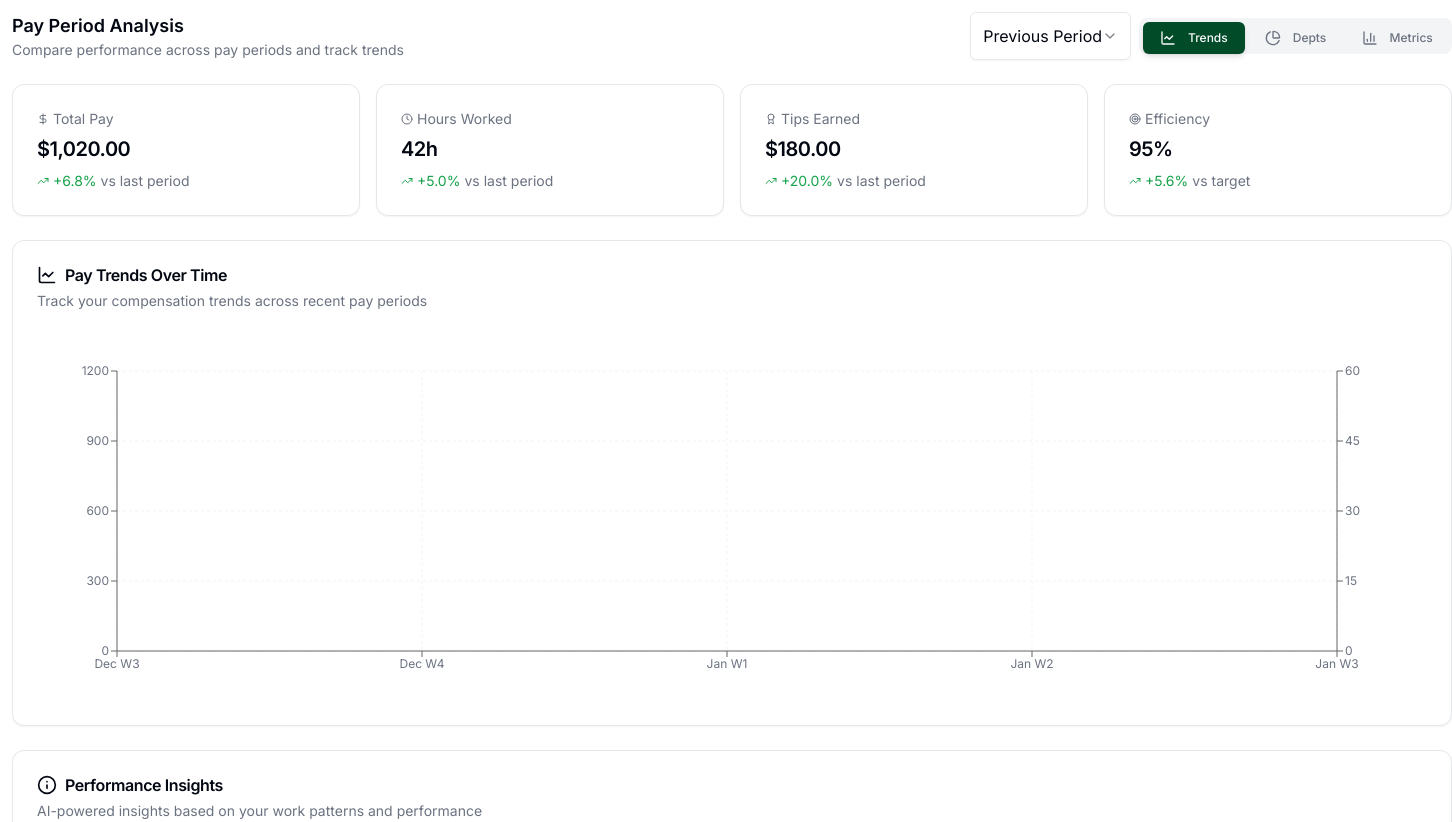
it: PayPeriodAnalysis › handles comparison period selection
Click the dropdown at (1051, 36), box [970, 12, 1131, 60]
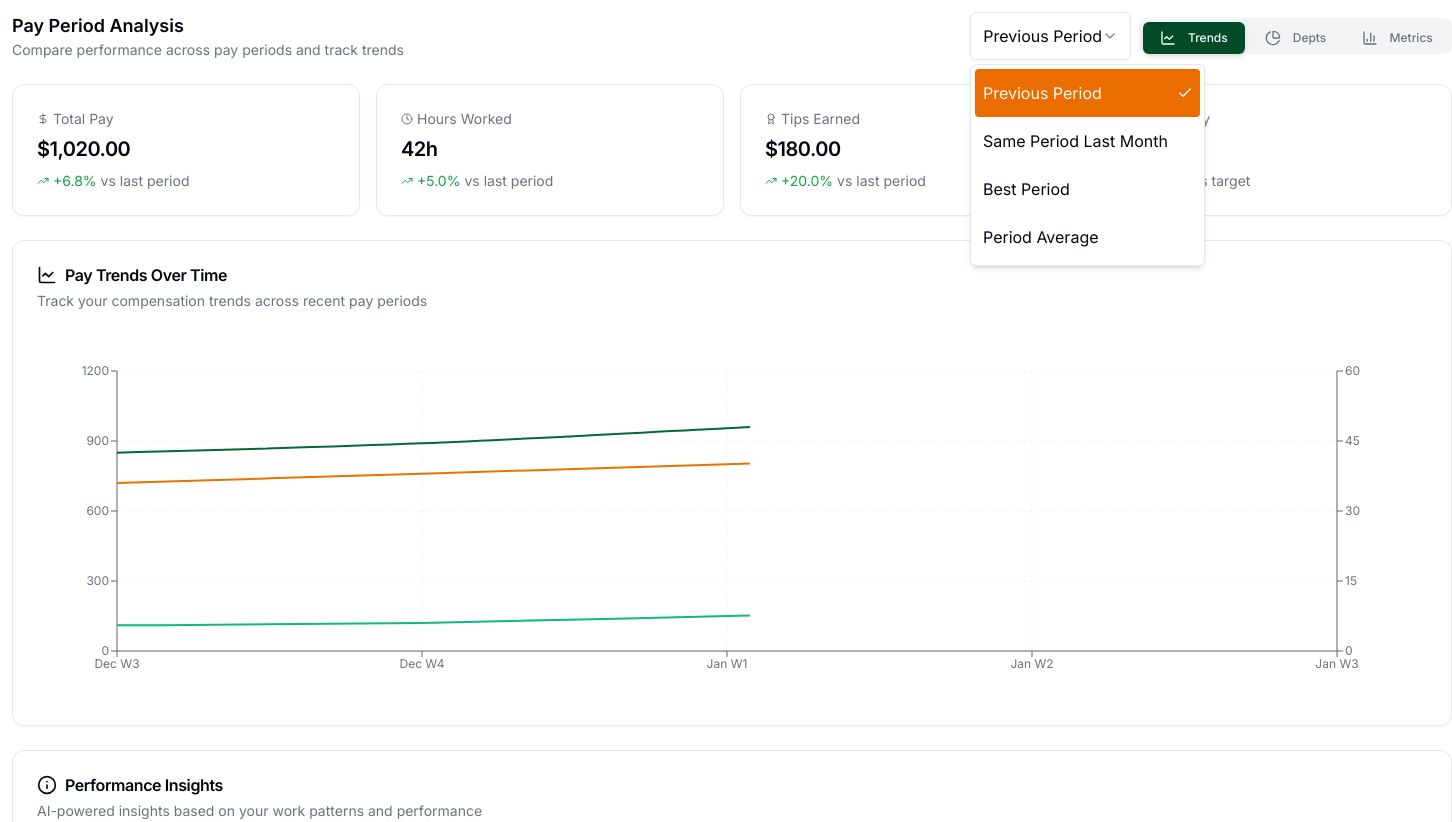
Result: the text "Same Period Last Month" is shown at [983, 129, 1168, 153]
Result: the text "Best Period" is shown at [983, 177, 1070, 201]
Result: the text "Period Average" is shown at [983, 225, 1098, 249]
